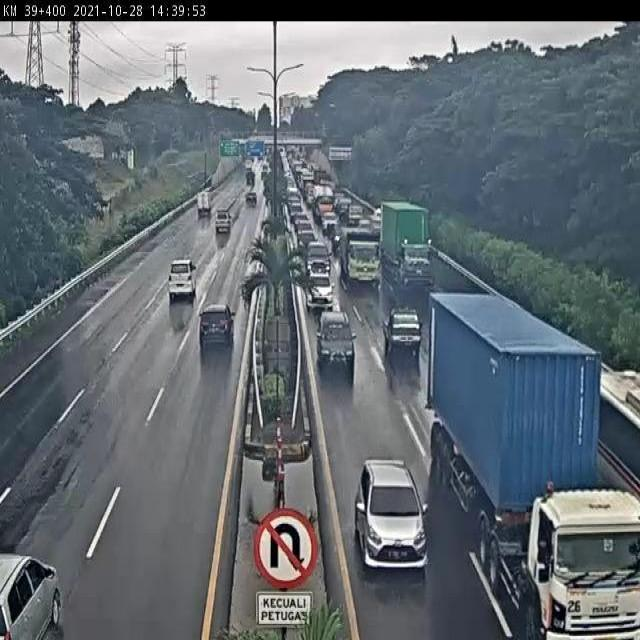big truck: (429, 293, 640, 640), (379, 203, 429, 281), (337, 228, 383, 287)
car: (355, 459, 428, 568), (317, 311, 356, 365), (383, 306, 421, 354), (200, 301, 236, 348), (168, 257, 199, 299), (305, 269, 333, 308), (304, 237, 329, 268), (213, 209, 231, 236), (297, 230, 316, 250)
small truck: (196, 192, 213, 217)
